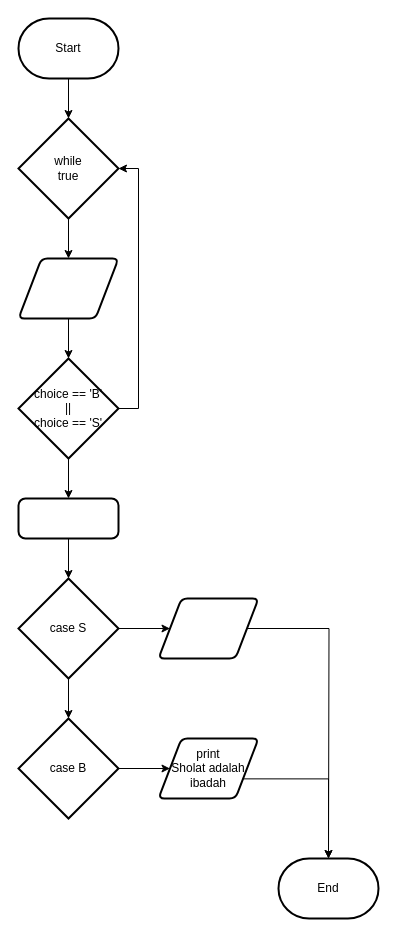
Some shapes in this 396 by 936 pixel diagram are drawn without their labels. Here are the shapes that lost their labels. From the top down, the centre of each, then its label:
At (68,288): "input choice".
At (68,518): "switch choice".
At (208,628): "print Bagus!".
